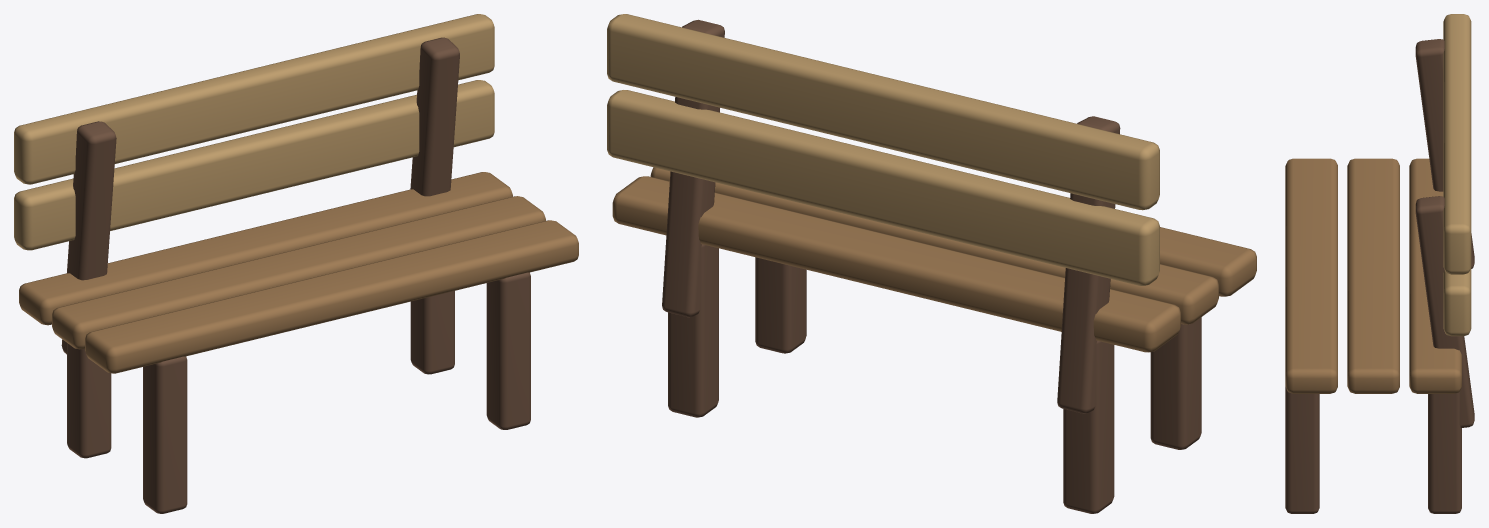
Rendered from bench.glb.
3 renders of one model, left to right at view 1: azimuth 30°, elevation 25°; view 2: azimuth 150°, elevation 25°; view 3: azimuth 270°, elevation 25°, orthographic. The views are drawn at different scales.
Visible parts, largest first — view 1: bench_wood, bench_wood_light, bench_timber; view 2: bench_wood_light, bench_wood, bench_timber; view 3: bench_wood, bench_timber, bench_wood_light.
Boxes of the visible parts, left/top/right/bottom form: bench_wood: left=19, top=172, right=578, bottom=373; bench_wood_light: left=14, top=14, right=494, bottom=250; bench_timber: left=61, top=37, right=530, bottom=513; bench_wood_light: left=607, top=14, right=1159, bottom=285; bench_wood: left=612, top=167, right=1256, bottom=352; bench_timber: left=662, top=19, right=1201, bottom=513; bench_wood: left=1285, top=158, right=1461, bottom=393; bench_timber: left=1285, top=39, right=1474, bottom=513; bench_wood_light: left=1443, top=14, right=1471, bottom=336.
Bounding box in the file's own units: 1.65 × 1.11 × 0.6101.
